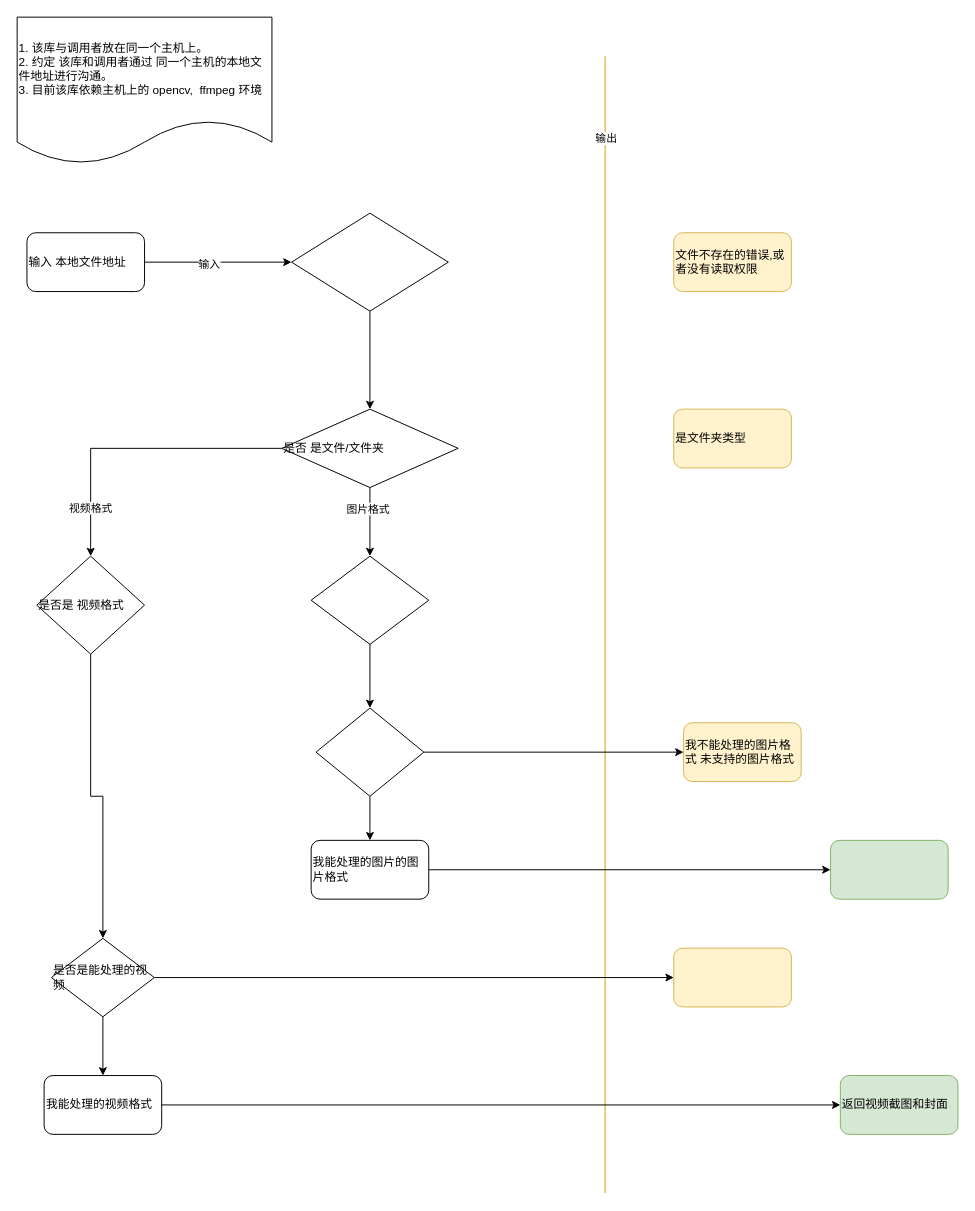
Image size: 975x1211. Some labels were removed from this diagram. The shapes that lost their labels are listed below. From the top down, each one's box as (x1, y1, x2, y2) in pixels, then its label:
(291, 212, 448, 311): 是否存在
(310, 555, 429, 644): 是否是 图片格式
(315, 707, 424, 796): 是否是 能处理的图片
(830, 839, 948, 899): 图片的截图返回
(673, 947, 791, 1007): 我不能处理的视频格式 未支持的视频格式
